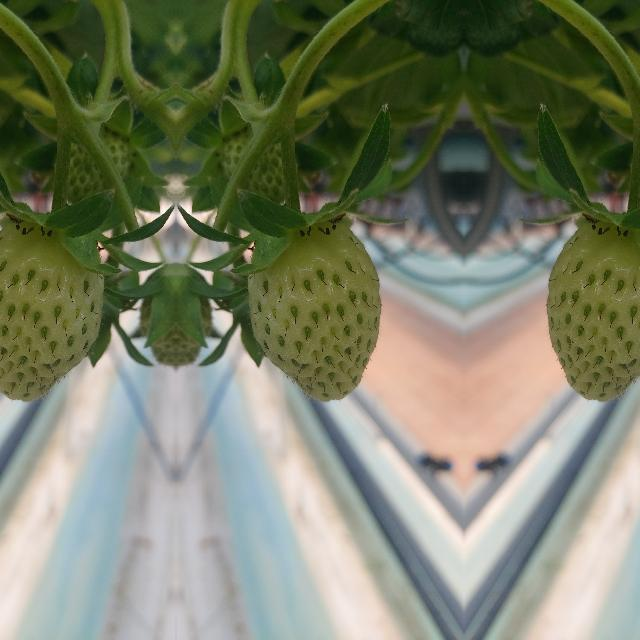Health_25: (247, 220, 381, 402), (0, 220, 103, 401), (545, 220, 640, 401)
